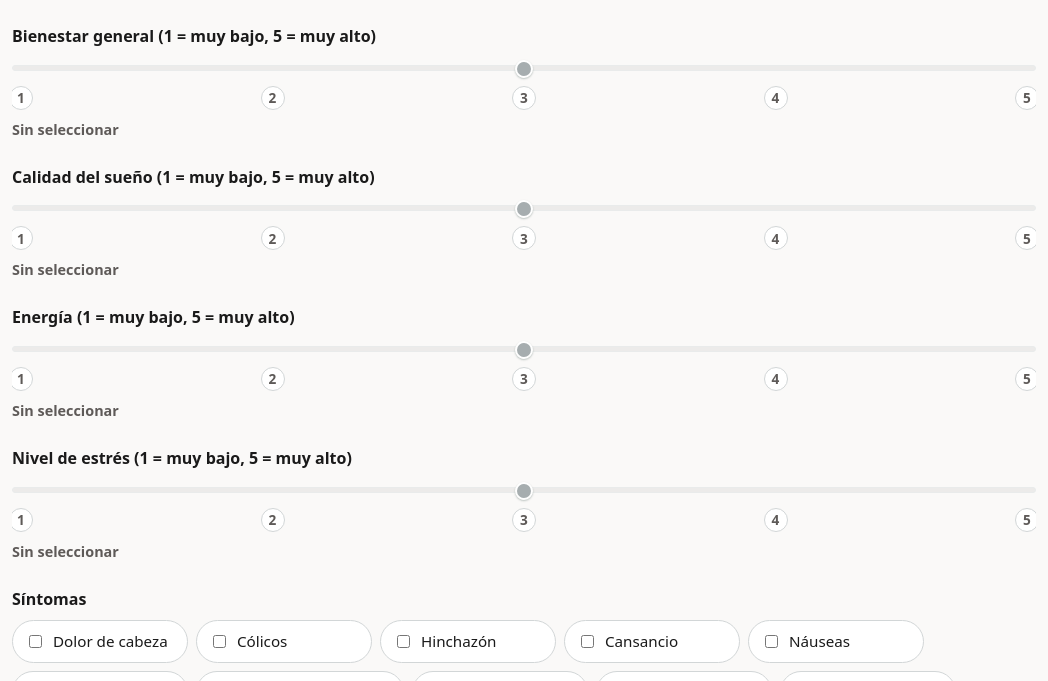
Test case: CheckInForm › shows the validation message returned by the server
This screenshot has width=1048, height=681.
Set the slider named "Bienestar general" to "4" at (776, 68), box [12,58,1036,78]
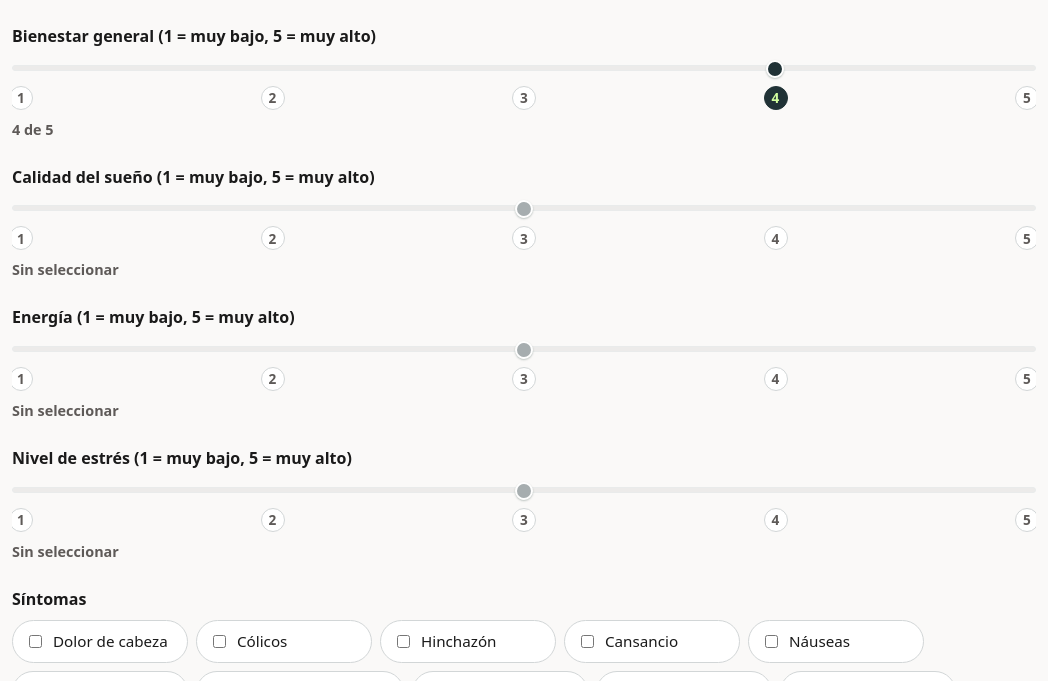
Click the 2nd button "3".
click(524, 238)  # box [512,226,536,250]
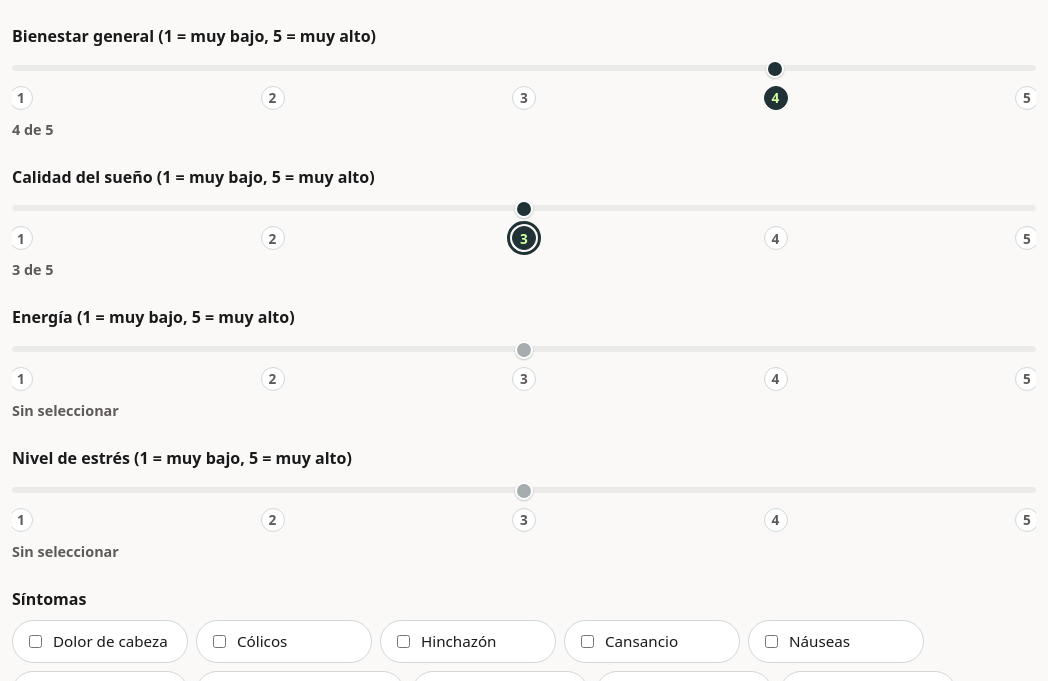
Set the slider named "Energía" to "2" at (272, 349), box [12,339,1036,359]
(page scrolled)
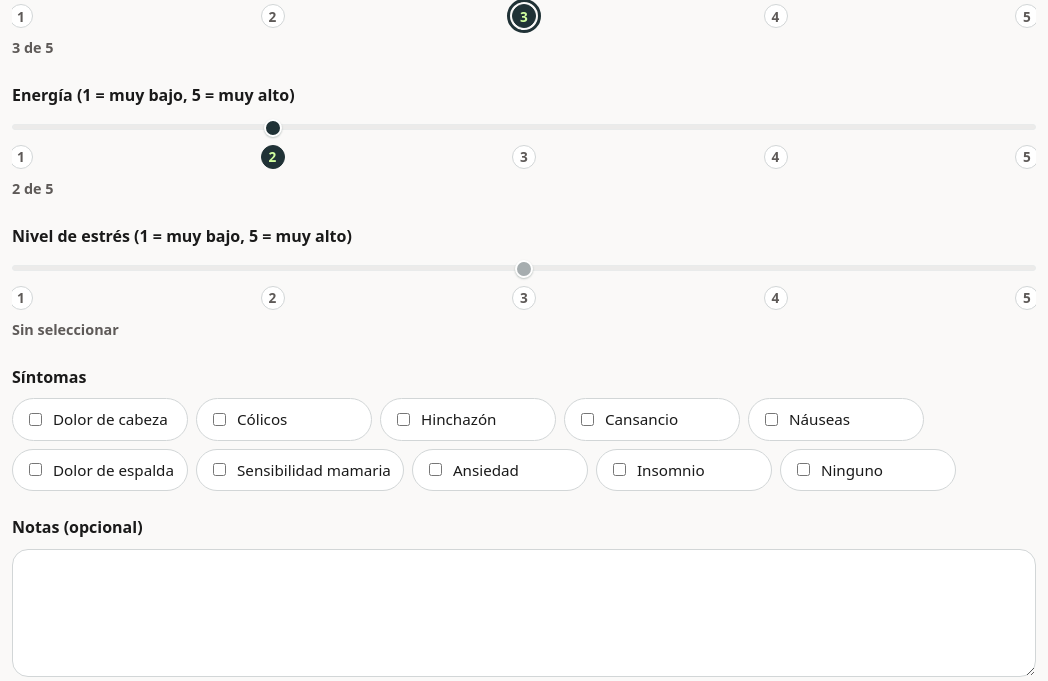
Click the 3rd button "5".
click(1026, 298)  # box [1015,286,1036,310]
(page scrolled)
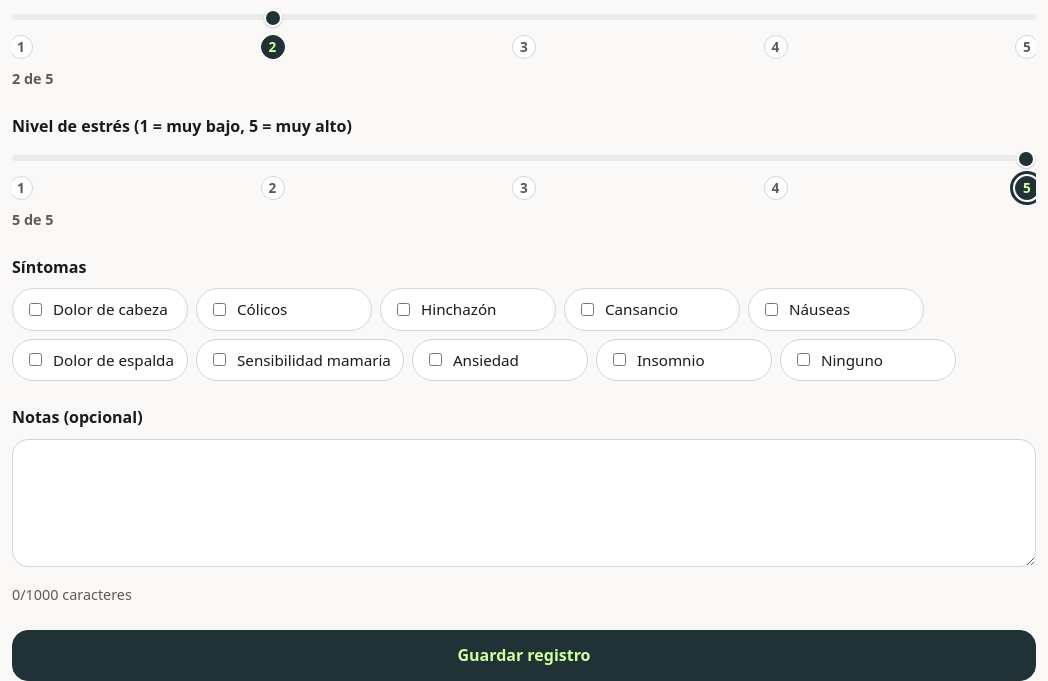
Click the button "Guardar registro".
click(524, 655)  # box [12,630,1036,680]
(page scrolled)
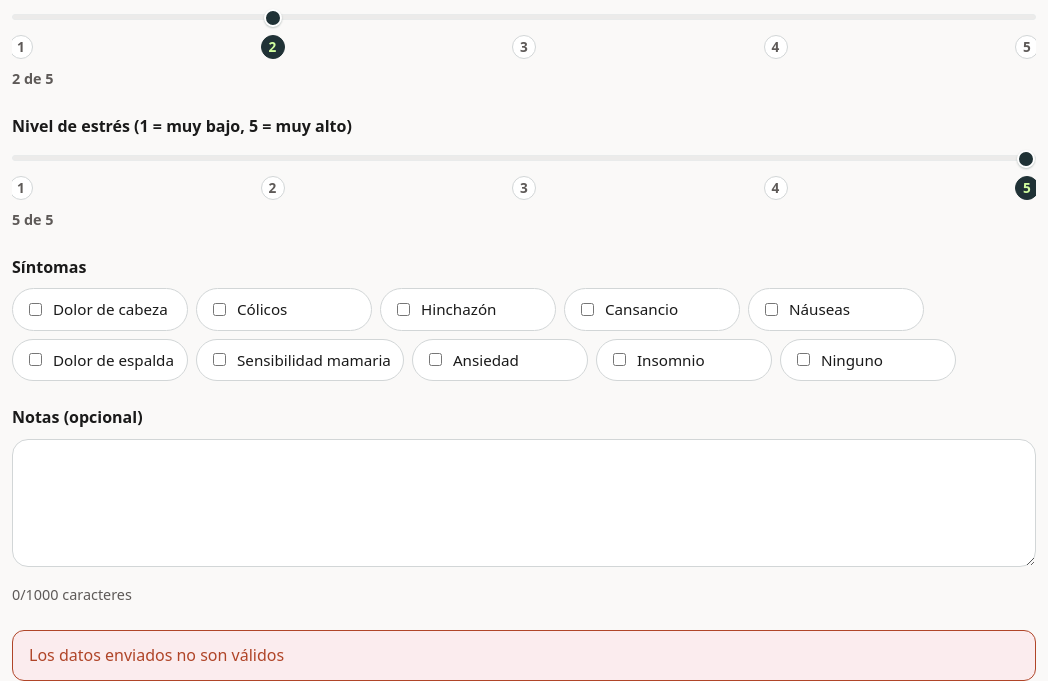
Expected: the message reads "Los datos enviados no son válidos", [29,644,284,666]
